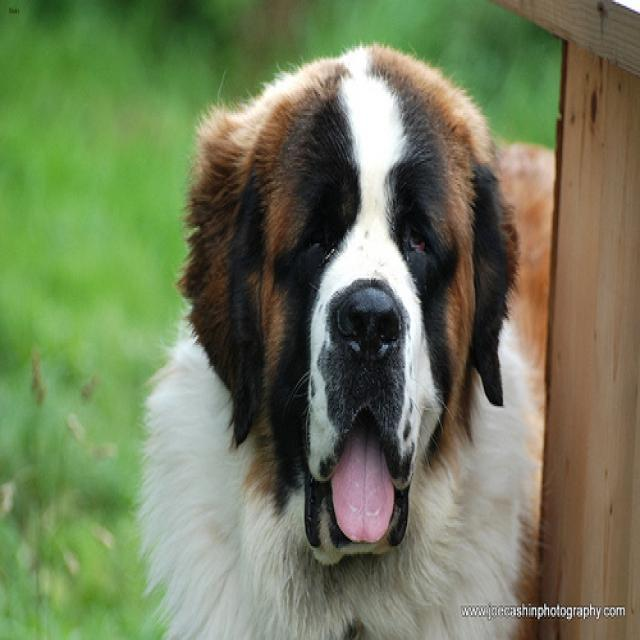dog-saint_bernard: (133, 33, 543, 636)
